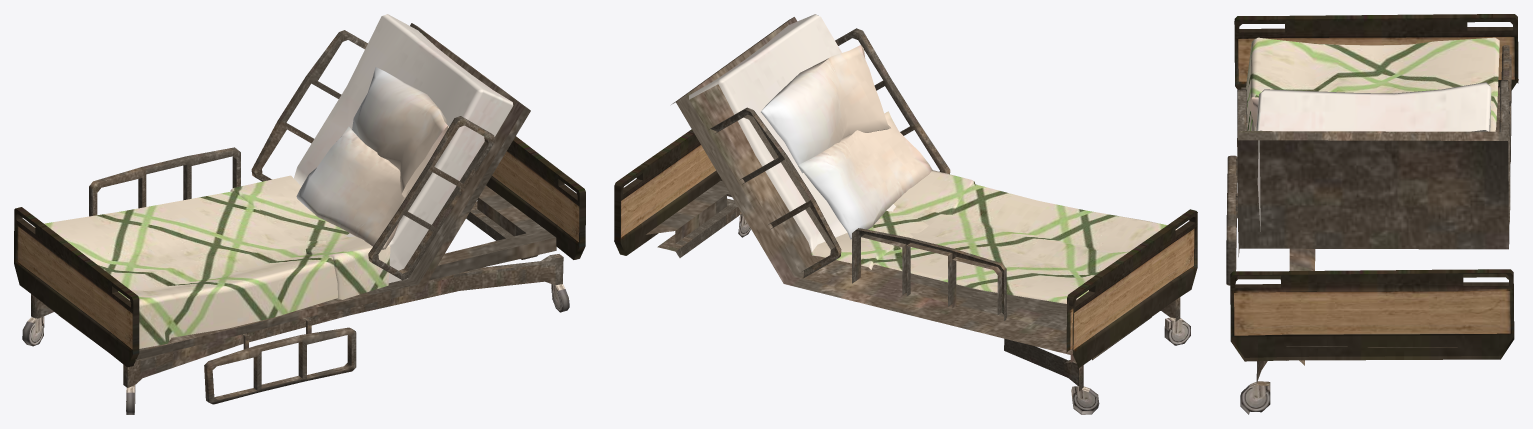
The model's file is Cama.fbx.
The picture shows the model from 3 angles, left to right: view 1: azimuth 30°, elevation 25°; view 2: azimuth 150°, elevation 25°; view 3: azimuth 270°, elevation 25°; orthographic projection. The views are drawn at different scales.
Parts seen in each view (by area): view 1: Quarto_A_CamaMedica; view 2: Quarto_A_CamaMedica; view 3: Quarto_A_CamaMedica.
Part boxes in pixels (x1,y1,x2,y2): Quarto_A_CamaMedica: (14,14,585,414); Quarto_A_CamaMedica: (614,14,1197,414); Quarto_A_CamaMedica: (1226,14,1518,414).
Bounding box in the file's own units: 27042 × 13652 × 12660.
